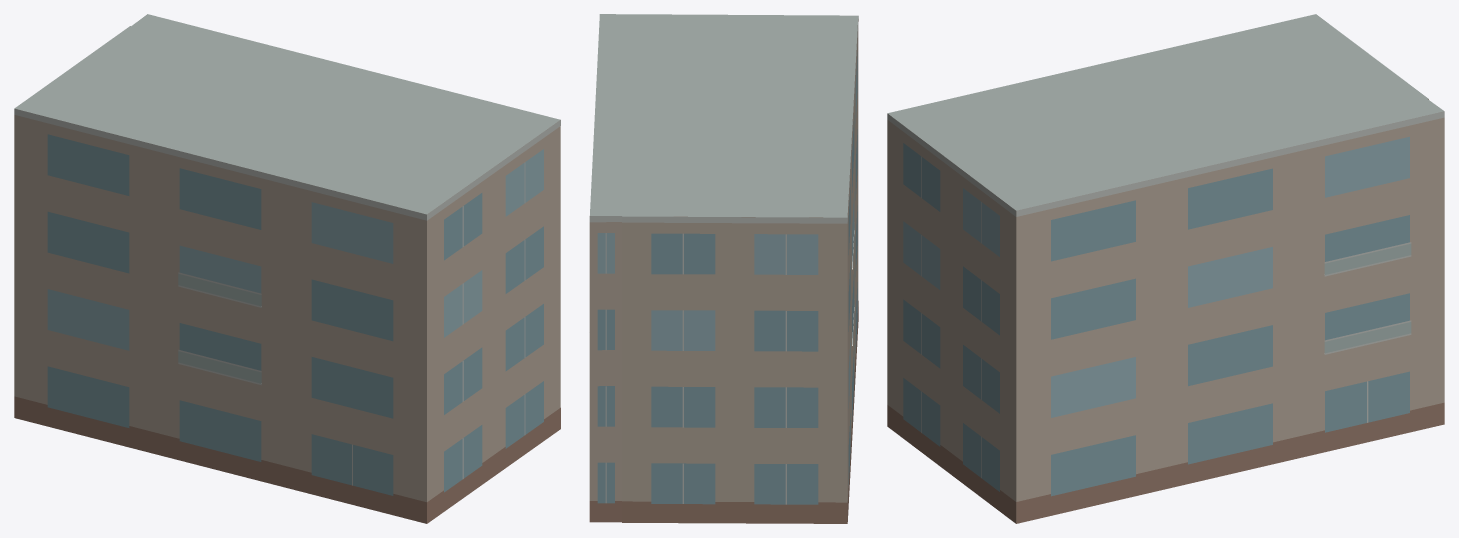
The model's file is survey-upis-32747668.glb.
The picture shows the model from 3 angles, left to right: view 1: azimuth 30°, elevation 25°; view 2: azimuth 150°, elevation 25°; view 3: azimuth 270°, elevation 25°; orthographic projection. The views are drawn at different scales.
Parts seen in each view (by area): view 1: survey-upis-32747668.tmp; view 2: survey-upis-32747668.tmp; view 3: survey-upis-32747668.tmp.
Part boxes in pixels (x1,y1,x2,y2): survey-upis-32747668.tmp: (14, 14, 560, 523); survey-upis-32747668.tmp: (589, 14, 858, 523); survey-upis-32747668.tmp: (887, 14, 1444, 523).
Size of the model in its own units: 16.39 by 12.16 by 19.62.
